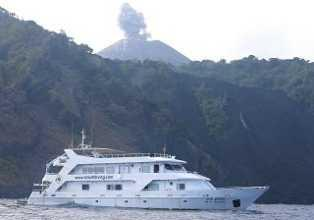yacht: (32, 138, 270, 207)
